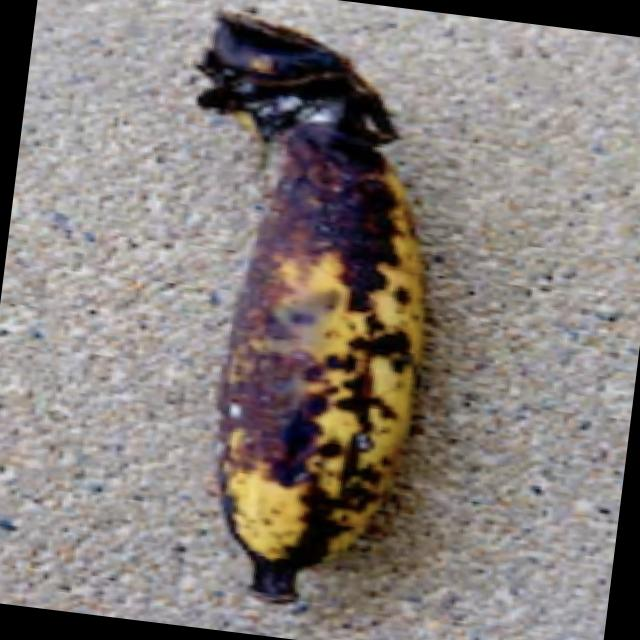rotten-banana: (191, 113, 451, 592)
